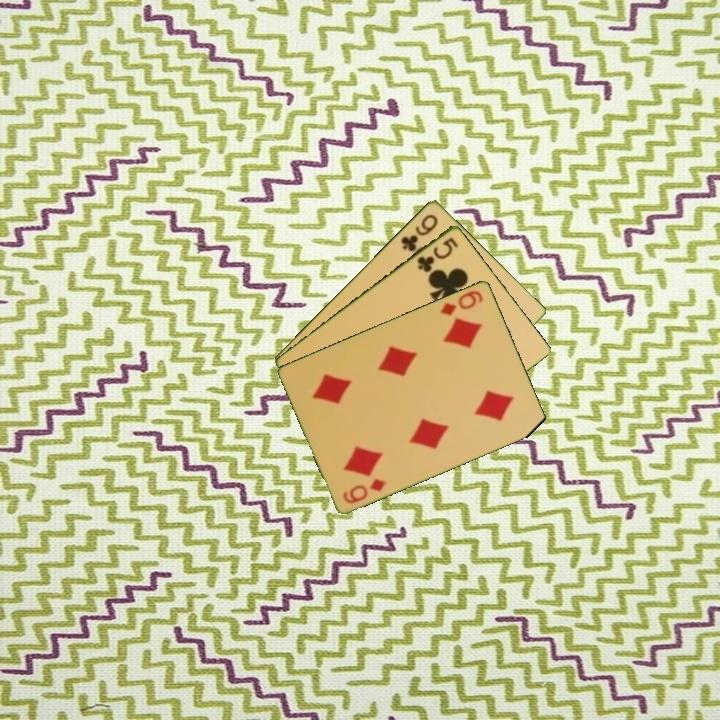5c: (413, 233, 461, 275)
6d: (340, 474, 389, 506), (437, 287, 486, 318)
9c: (397, 210, 441, 254)
